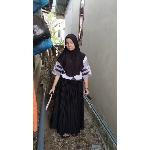Pedang: (44, 90, 58, 112)
